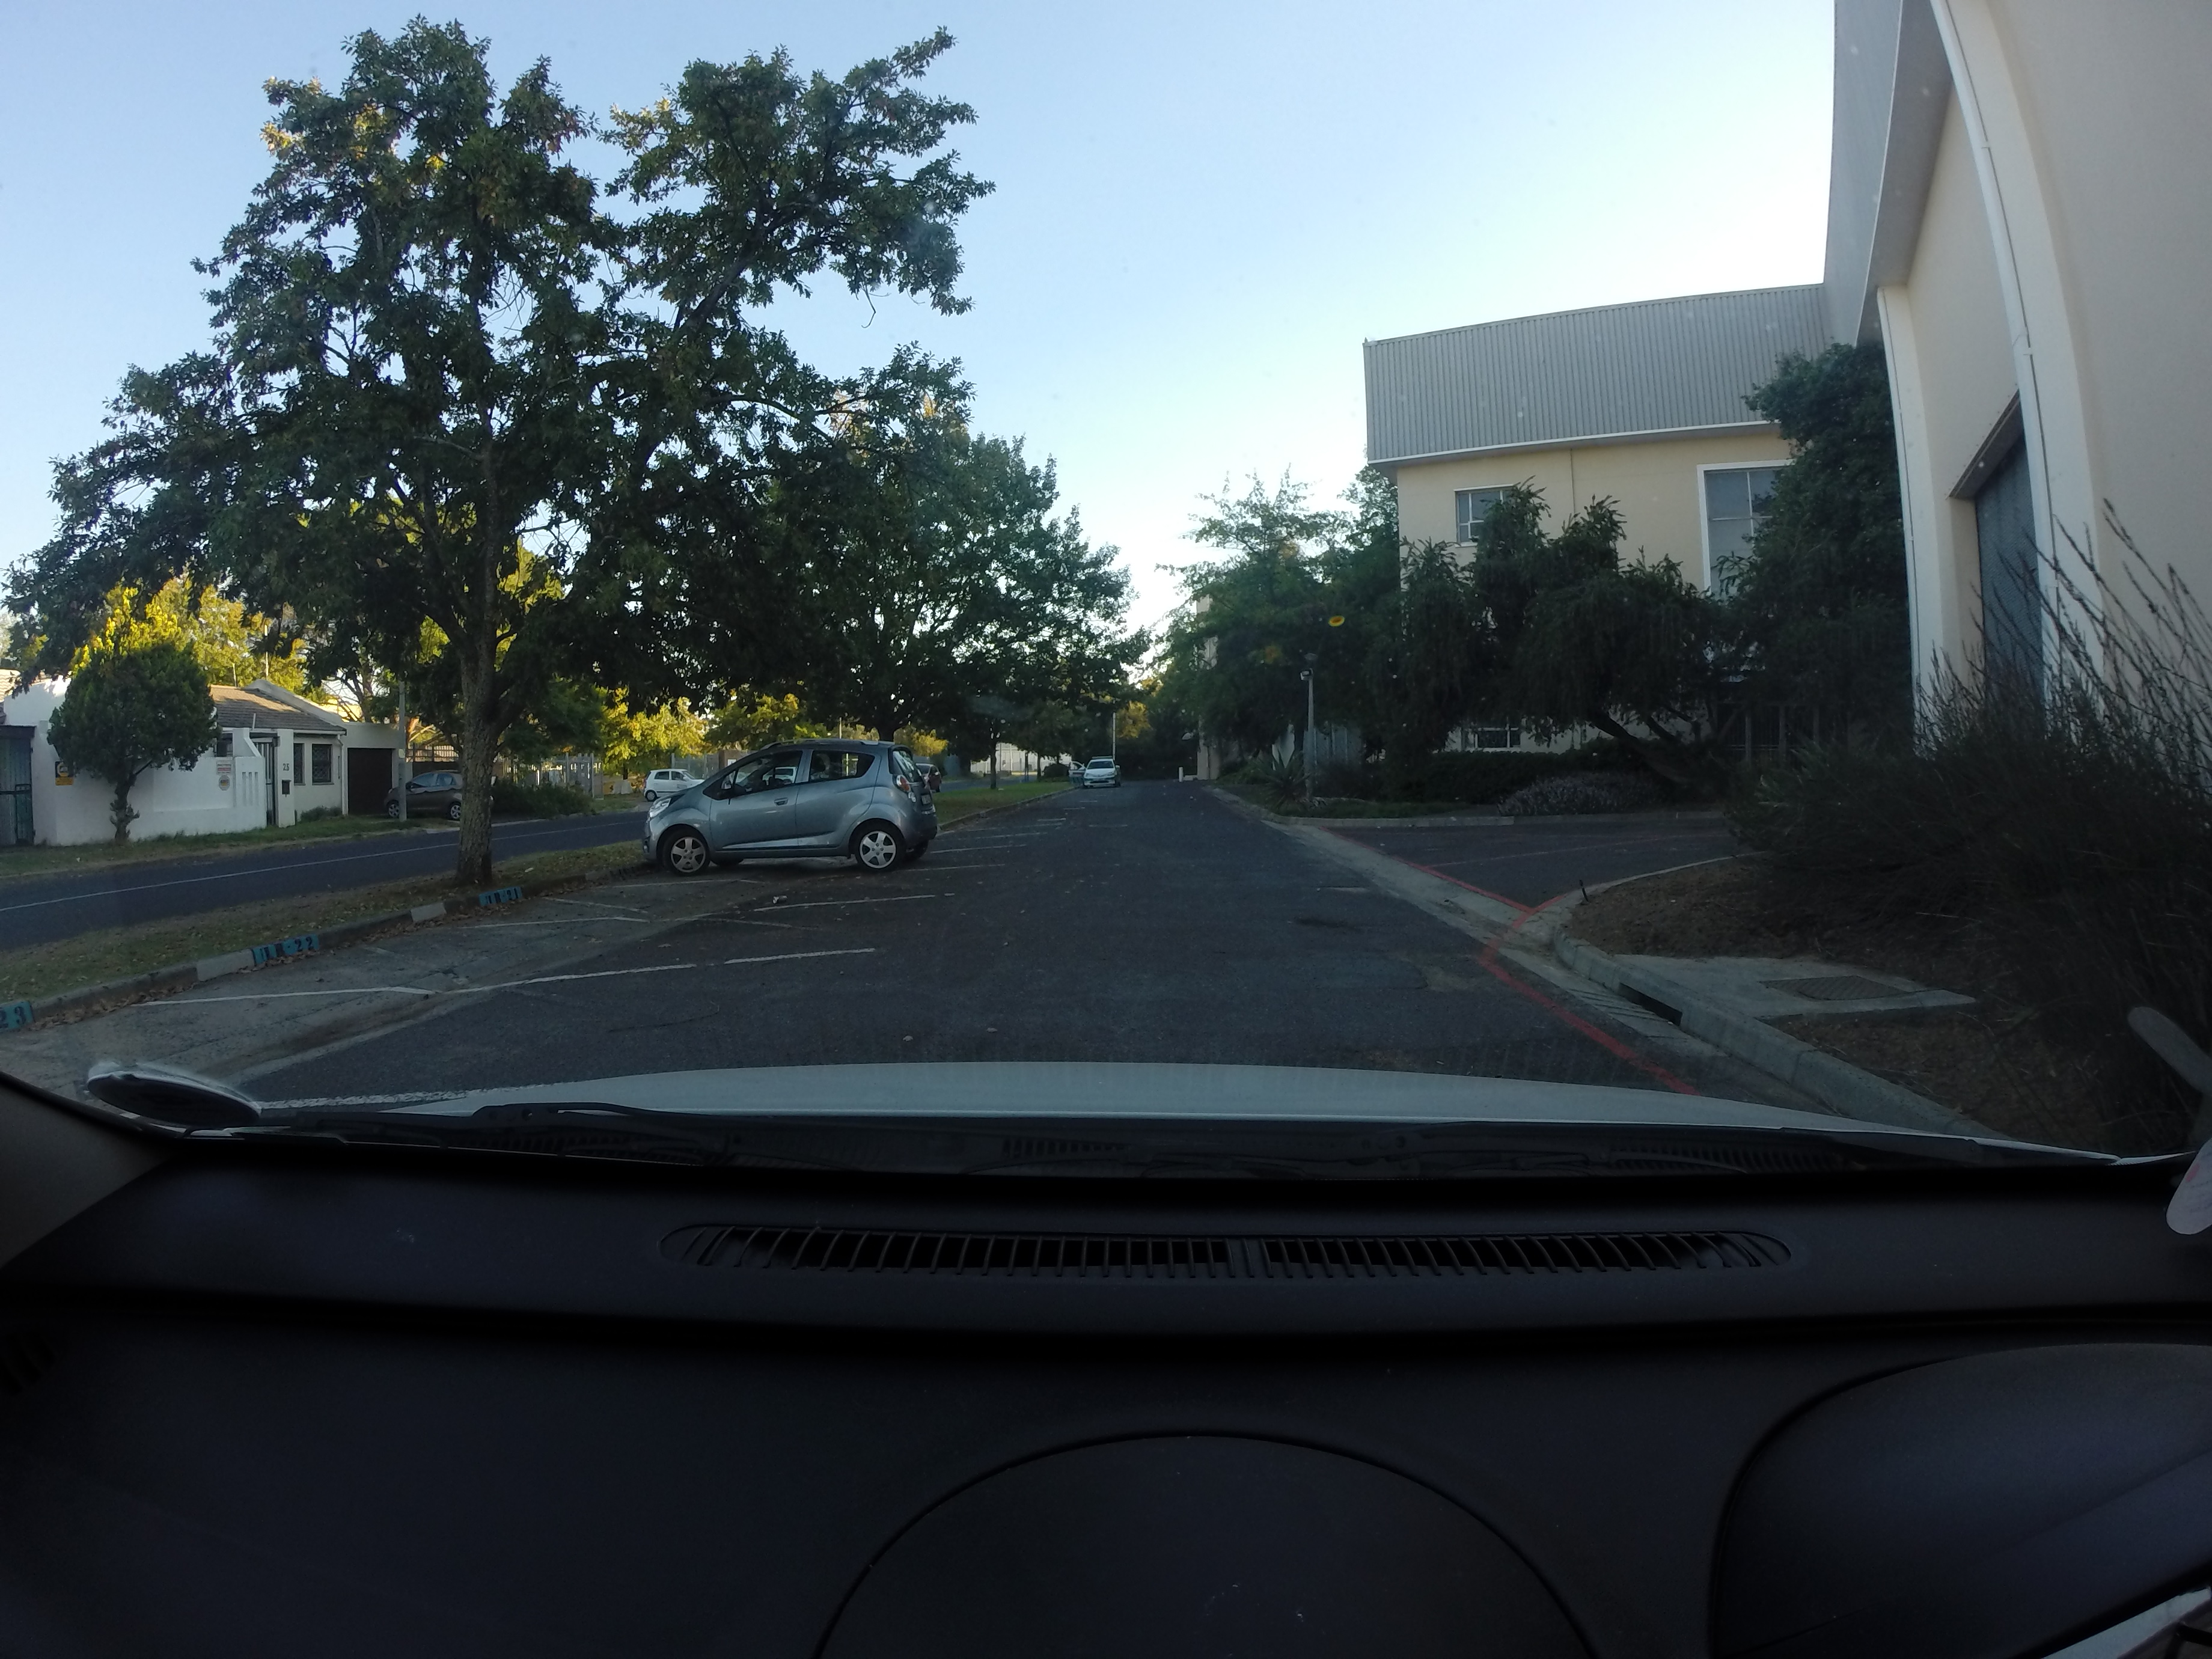pothole: (1312, 877, 1383, 903)
